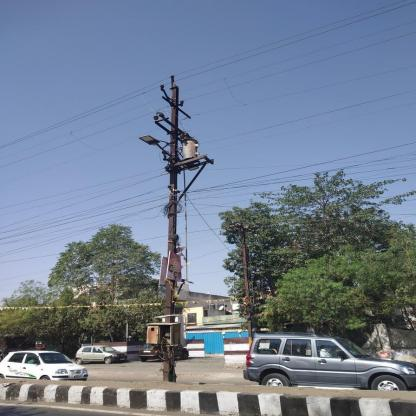Electrical Pole: (132, 71, 219, 383)
